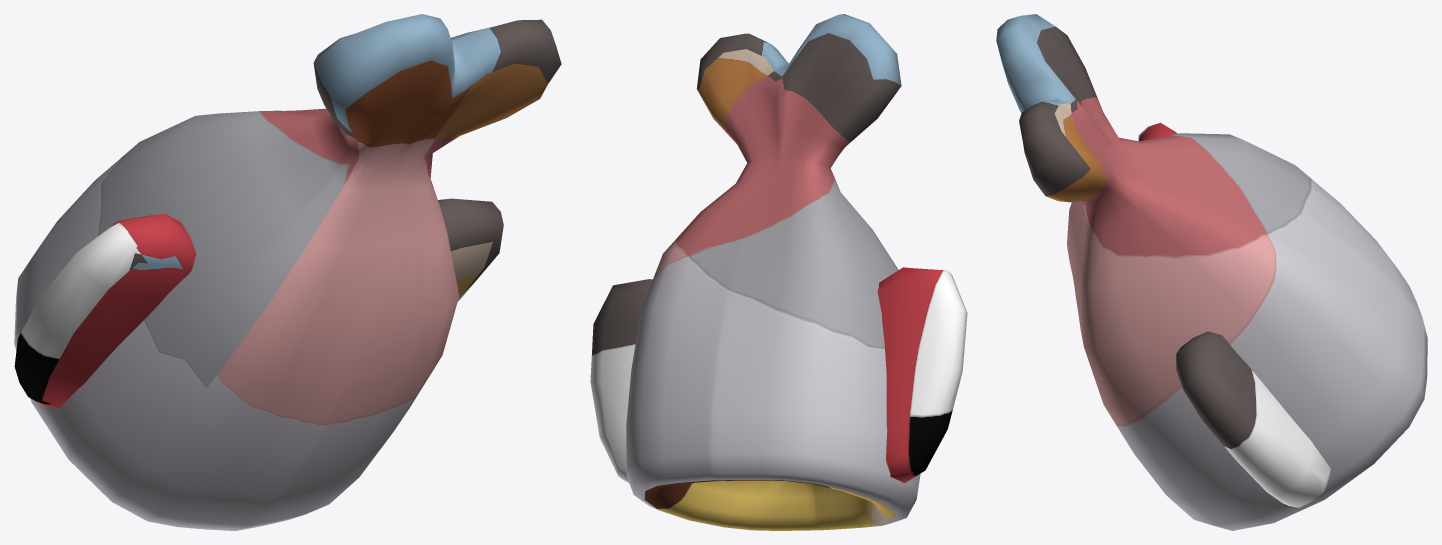
Rendered from Hat_FishHat.fbx.
The picture shows the model from 3 angles, left to right: view 1: azimuth 30°, elevation 25°; view 2: azimuth 150°, elevation 25°; view 3: azimuth 270°, elevation 25°; orthographic projection. The views are drawn at different scales.
Parts seen in each view (by area): view 1: Hat_FishHat; view 2: Hat_FishHat; view 3: Hat_FishHat.
Part boxes in pixels (bbox=[...]): Hat_FishHat: bbox=[14, 14, 561, 530]; Hat_FishHat: bbox=[590, 14, 967, 530]; Hat_FishHat: bbox=[996, 14, 1427, 530].
Size of the model in its own units: 40.64 by 48.82 by 38.44.
